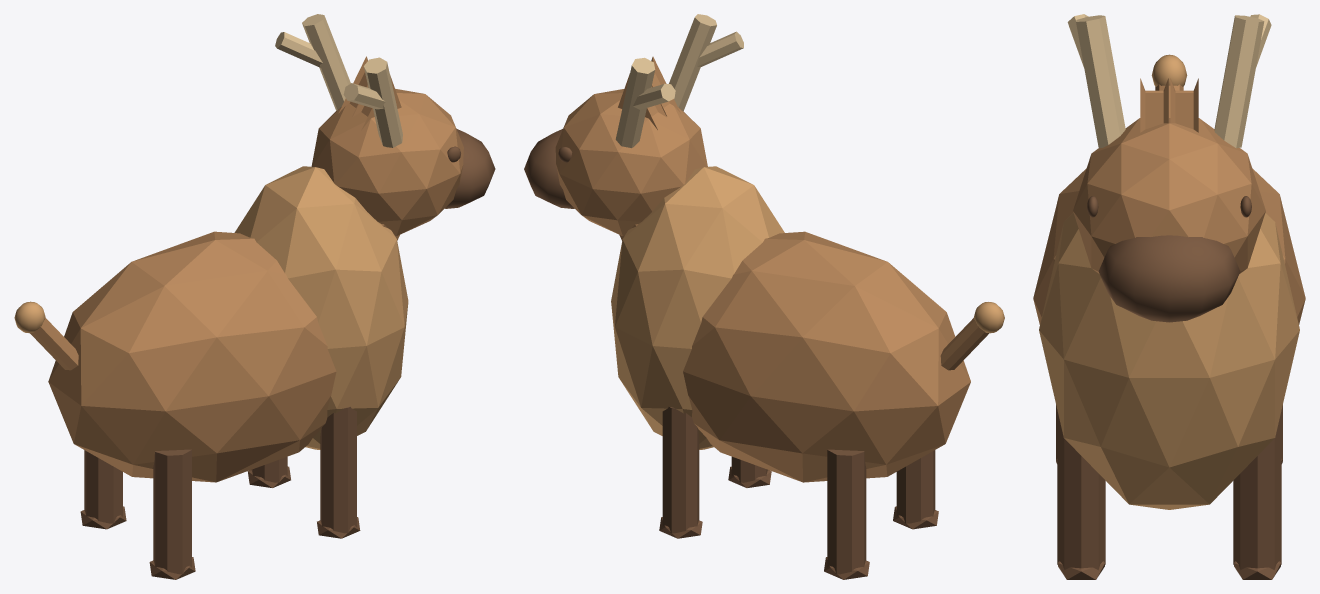
Rendered from deer.glb.
The picture shows the model from 3 angles, left to right: view 1: azimuth 30°, elevation 25°; view 2: azimuth 150°, elevation 25°; view 3: azimuth 270°, elevation 25°; orthographic projection. The views are drawn at different scales.
Visible parts, largest first — view 1: deer_root; view 2: deer_root; view 3: deer_root.
Boxes of the visible parts, bbox=[...] form: deer_root: bbox=[14, 14, 495, 579]; deer_root: bbox=[524, 14, 1004, 579]; deer_root: bbox=[1033, 14, 1305, 579].
Bounding box in the file's own units: 1.49 × 1.4 × 0.5875.
